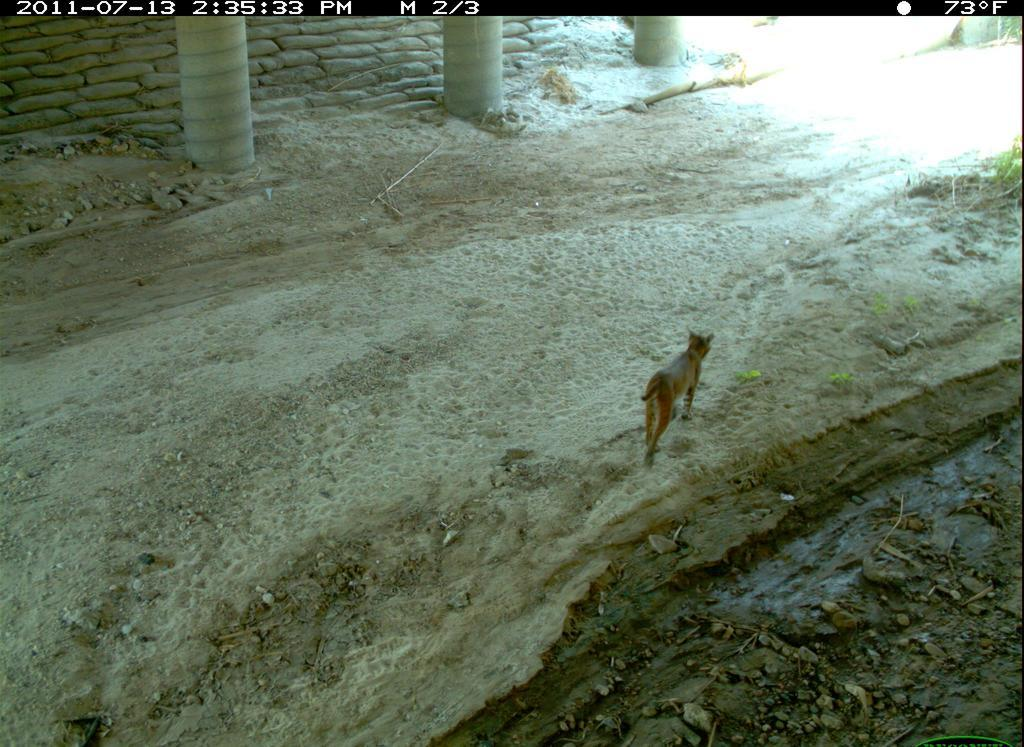bobcat: (626, 323, 728, 482)
